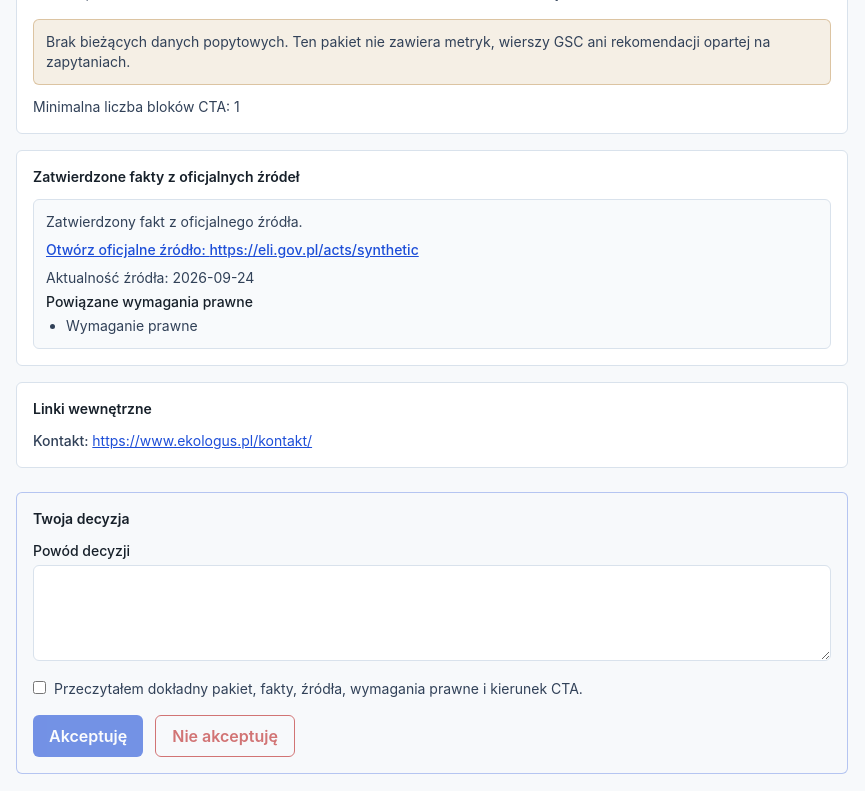
Test: v3 research packet ActionObject review › offers the planning generation intent only after the packet receipt is applied
(page scrolled)
Expected: the button "Przygotuj zamiar planowania" is not shown
In the text box labelled "Powód decyzji": (432, 613) 33,565 -> 831,661, type "Potwierdzam pełny odczyt dokładnego pakietu."
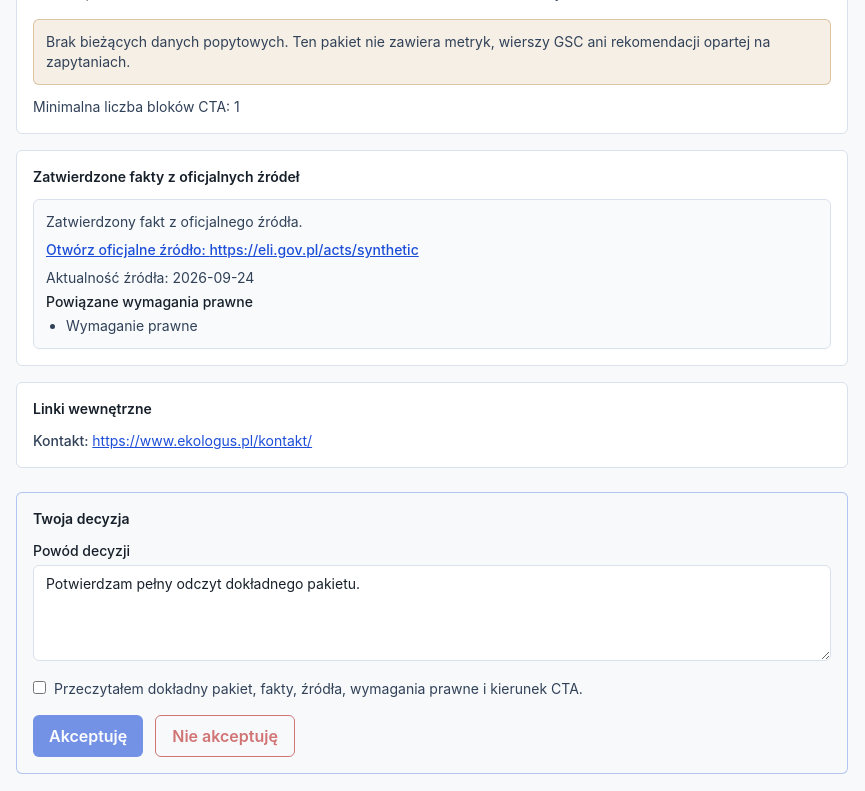
Click the checkbox labelled "Przeczytałem dokładny pakiet": (40, 688) 33,681 -> 46,694
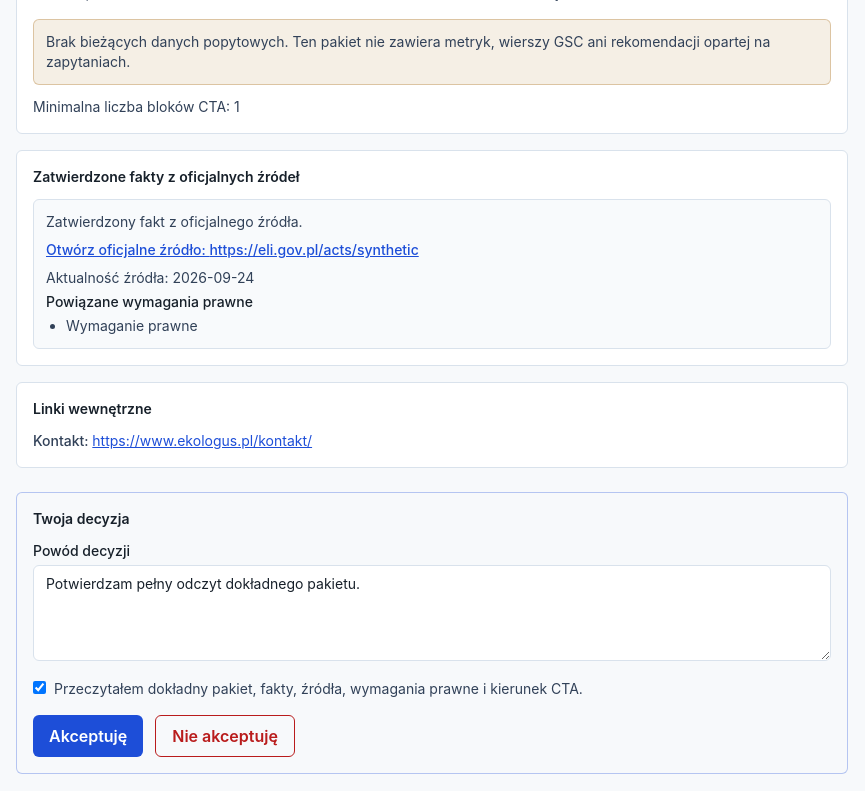
Click the button "Akceptuję": (88, 736) 33,715 -> 143,757
(page scrolled)
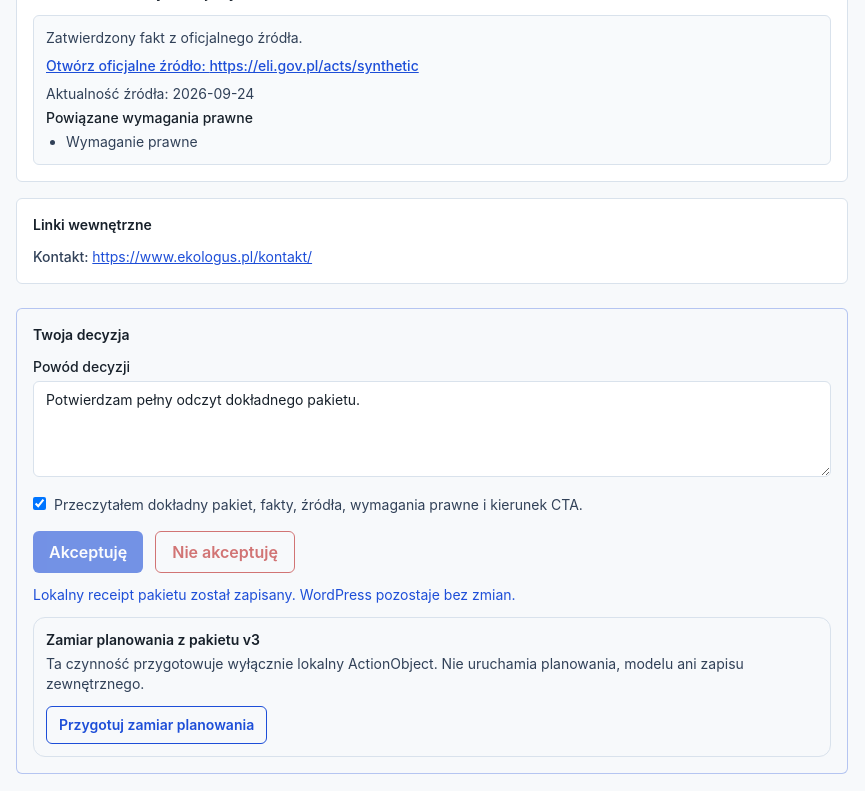
Expected: the button "Przygotuj zamiar planowania" is shown, 46,706 -> 267,744
